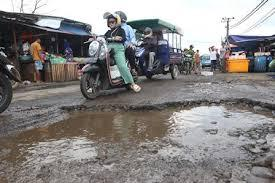Pothole: (0, 93, 275, 183), (178, 73, 275, 90)
